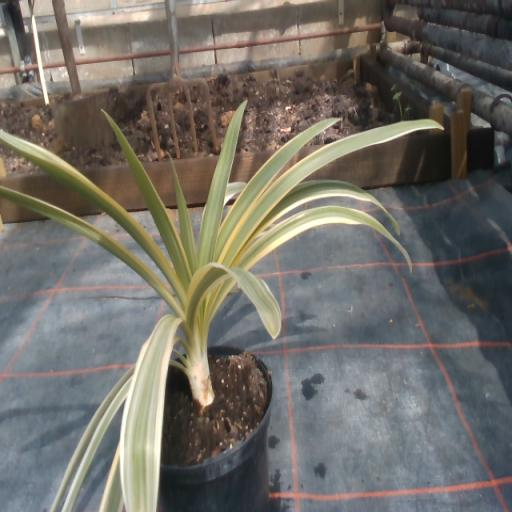Agapanthus-praecox: (219, 119, 440, 261), (0, 132, 183, 300), (2, 189, 173, 298), (214, 118, 339, 260), (107, 114, 190, 283), (118, 317, 181, 511), (50, 367, 134, 511), (239, 206, 411, 269), (250, 180, 388, 242), (199, 101, 246, 263), (186, 262, 279, 337), (173, 164, 197, 272), (99, 445, 122, 511), (224, 182, 246, 205), (62, 498, 76, 511)
